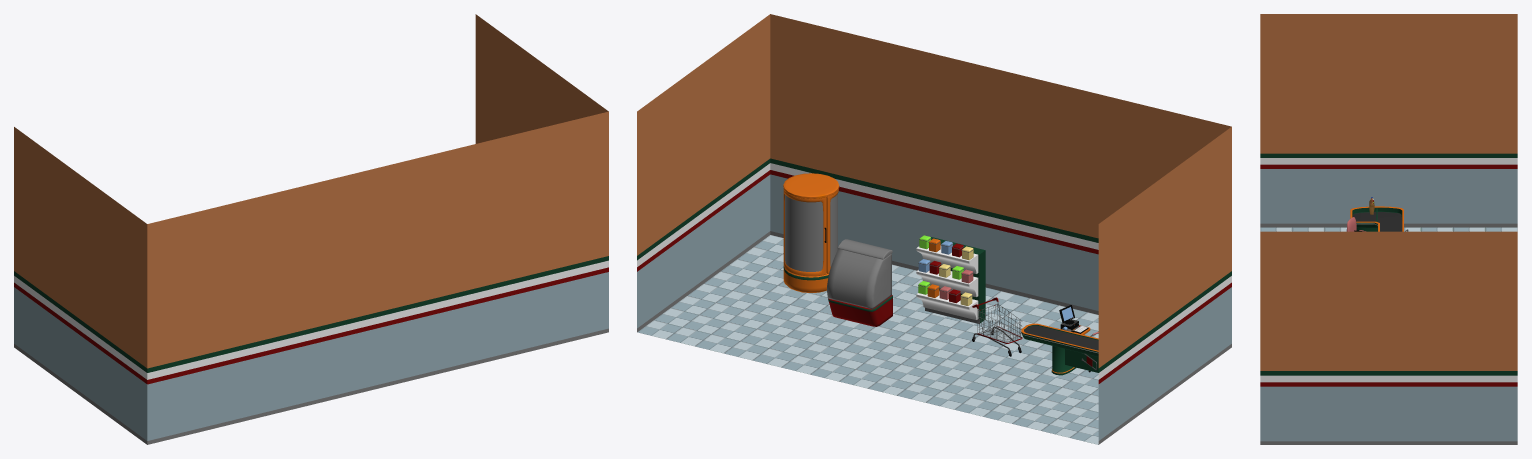
3 views of the same model, side by side, from view 1: azimuth 30°, elevation 25°; view 2: azimuth 150°, elevation 25°; view 3: azimuth 270°, elevation 25° (orthographic). The views are drawn at different scales.
Parts seen in each view (by area): view 1: Wall; view 2: Wall, Floor, Refrigerstor_2, Rack, Refrigerator_1_Side, Casher_Table, Trolley, Refrigerator_1_Base, Refrigerstor_2_Cap, Refrigerstor_2_Base, Refrigerator_1_Cap; view 3: Wall, Casher_Table, Floor.
Part boxes in pixels (x1=…): Wall: x1=14, y1=14, x2=608, y2=444; Wall: x1=637, y1=14, x2=1231, y2=444; Floor: x1=637, y1=235, x2=1098, y2=444; Refrigerstor_2: x1=783, y1=188, x2=838, y2=276; Rack: x1=916, y1=237, x2=985, y2=323; Refrigerator_1_Side: x1=827, y1=249, x2=891, y2=308; Casher_Table: x1=1021, y1=323, x2=1098, y2=375; Trolley: x1=972, y1=297, x2=1022, y2=356; Refrigerator_1_Base: x1=828, y1=295, x2=892, y2=326; Refrigerstor_2_Cap: x1=783, y1=173, x2=839, y2=199; Refrigerstor_2_Base: x1=783, y1=266, x2=828, y2=292; Refrigerator_1_Cap: x1=838, y1=239, x2=892, y2=259; Wall: x1=1260, y1=14, x2=1517, y2=444; Casher_Table: x1=1350, y1=206, x2=1408, y2=231; Floor: x1=1260, y1=227, x2=1517, y2=231.
Bounding box in the file's own units: 10053 × 4597 × 5026.
